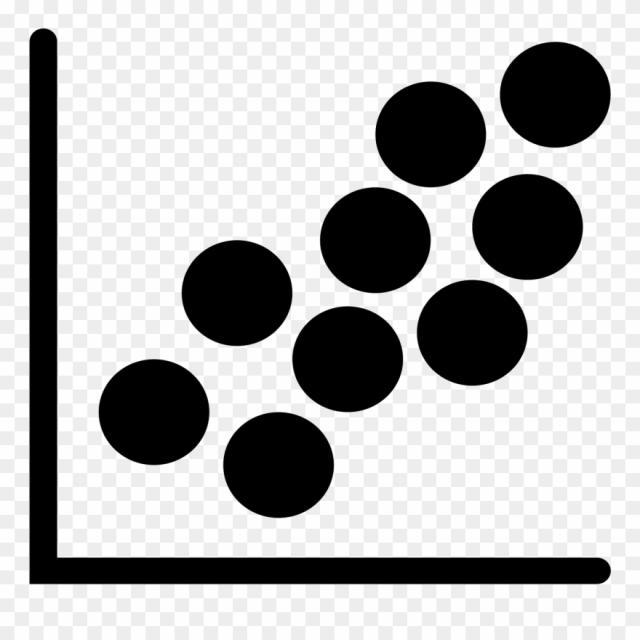Circle: (496, 36, 616, 152), (469, 168, 591, 282), (96, 357, 215, 468), (218, 410, 336, 520), (180, 237, 294, 348), (318, 185, 433, 295)
